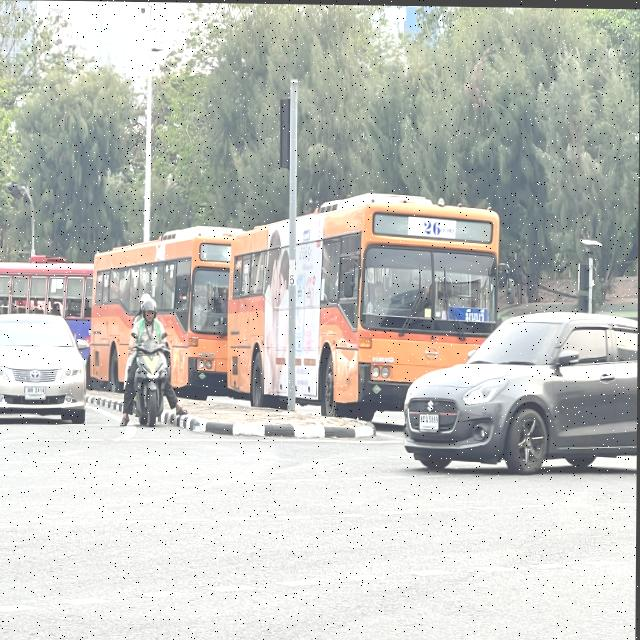BMTA-bus: (227, 183, 502, 424), (91, 219, 250, 402)
Bus-Line-Number: (408, 214, 458, 238)
Destination-Sign-Normal: (450, 305, 491, 321)
